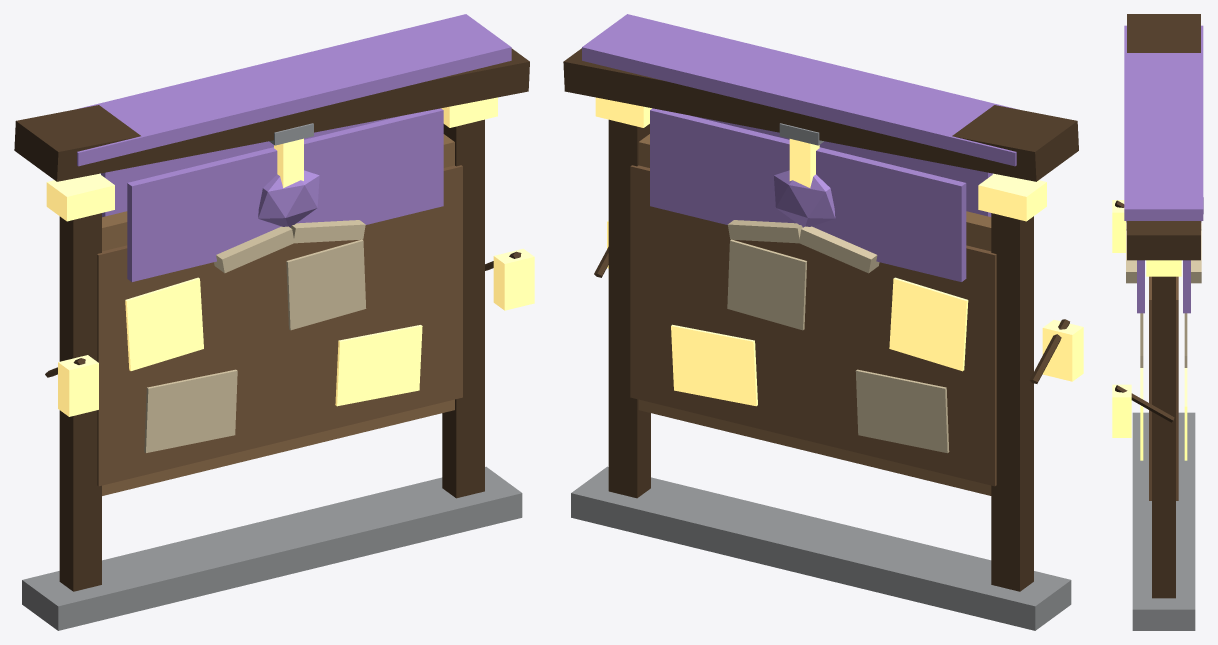
File: request_board_research.lod1.glb
3 renders of one model, left to right at view 1: azimuth 30°, elevation 25°; view 2: azimuth 150°, elevation 25°; view 3: azimuth 270°, elevation 25°, orthographic. The views are drawn at different scales.
Size of the model in its own units: 6.6 by 6.43 by 1.27.
